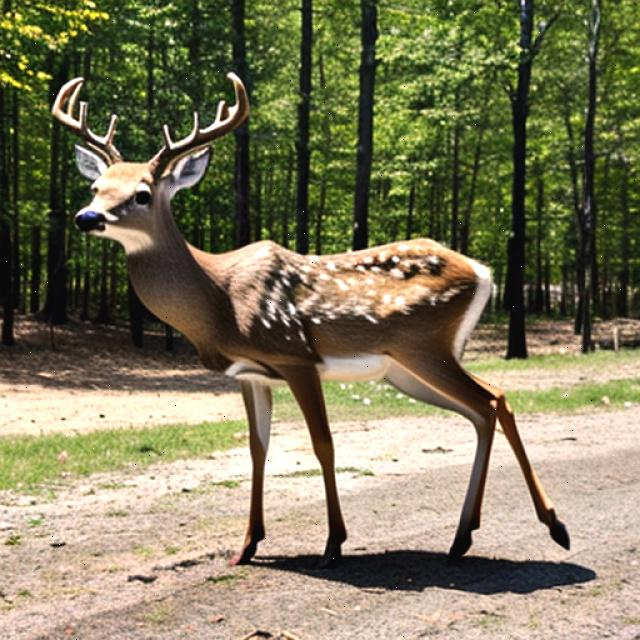deer: (40, 71, 326, 338)
